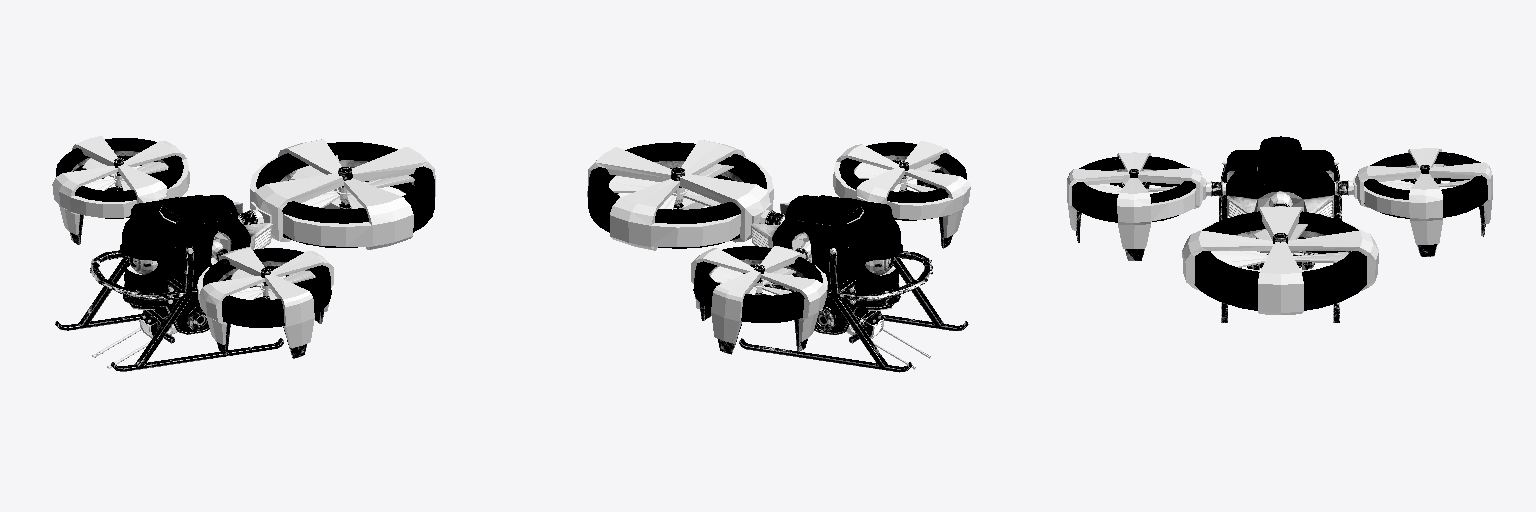
3 views of the same model, side by side, from view 1: azimuth 30°, elevation 25°; view 2: azimuth 150°, elevation 25°; view 3: azimuth 270°, elevation 25° (orthographic).
Visible parts, largest first — view 1: Body_Circle.001; view 2: Body_Circle.001; view 3: Body_Circle.001.
Boxes of the visible parts, x1,y1,x2,y2 form: Body_Circle.001: [52, 136, 435, 371]; Body_Circle.001: [587, 140, 970, 372]; Body_Circle.001: [1067, 136, 1492, 322].
Bounding box in the file's own units: 2.17 × 0.8501 × 2.33.
Materials: 1 (1 with a texture image).